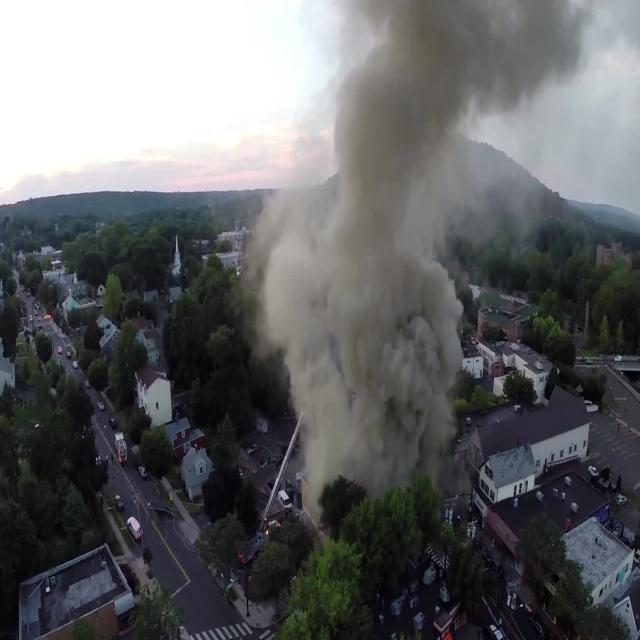Smoke: (310, 182, 450, 490)
